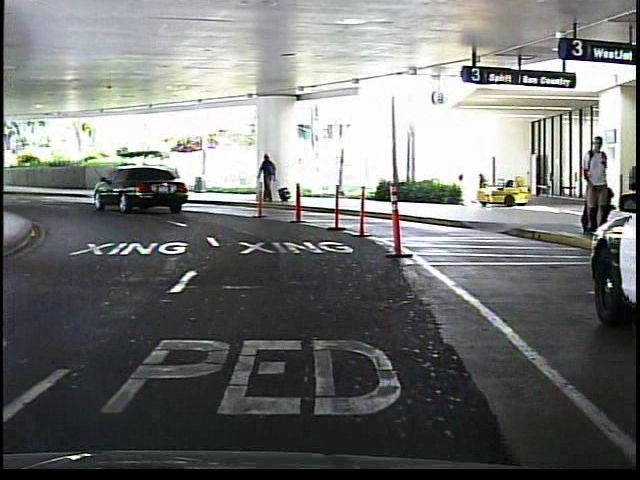person: (576, 131, 614, 243), (257, 151, 282, 206)
